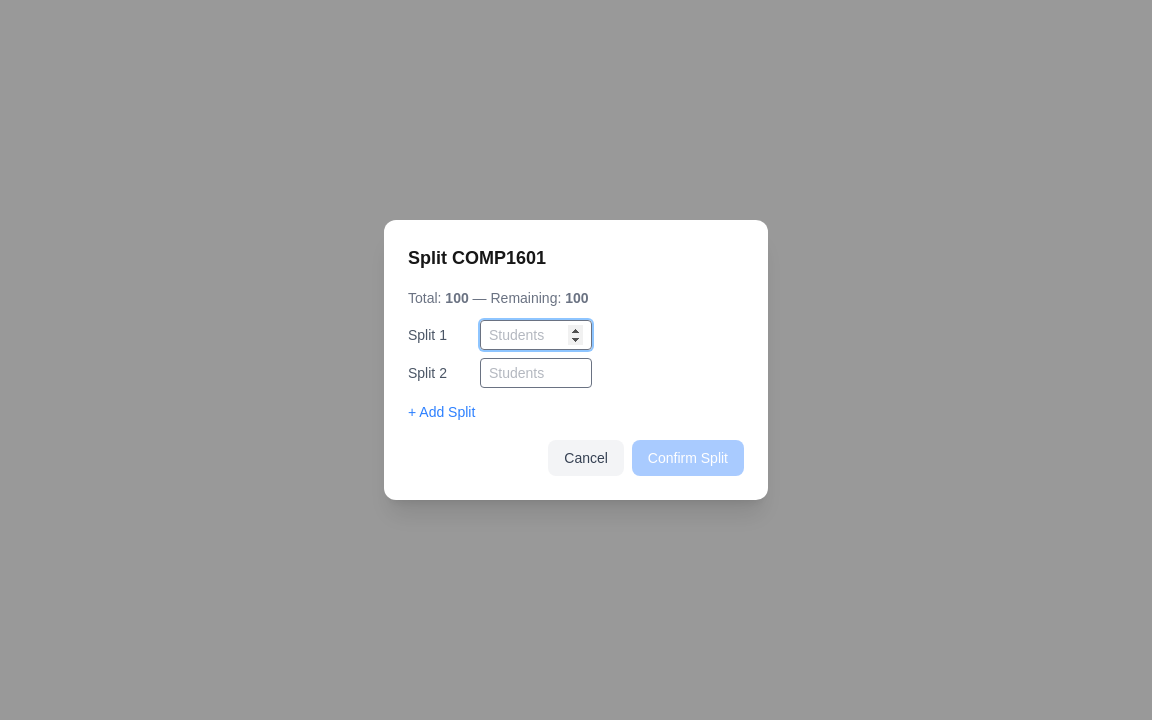
SplitExamDialog › should show negative remaining when over-allocated
Type "80" into the 1st number field with placeholder "Students". click: (536, 335)
box: [480,320,592,350]
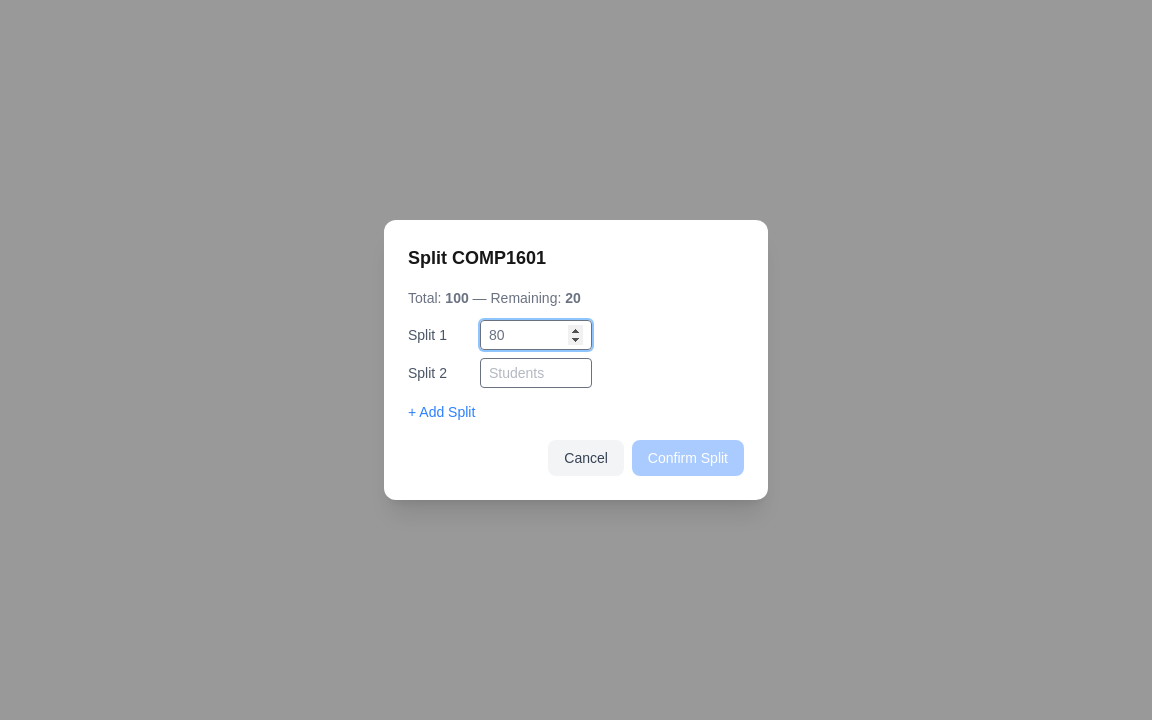
Type "40" into the number field with placeholder "Students". click: (536, 373)
box: [480,358,592,388]
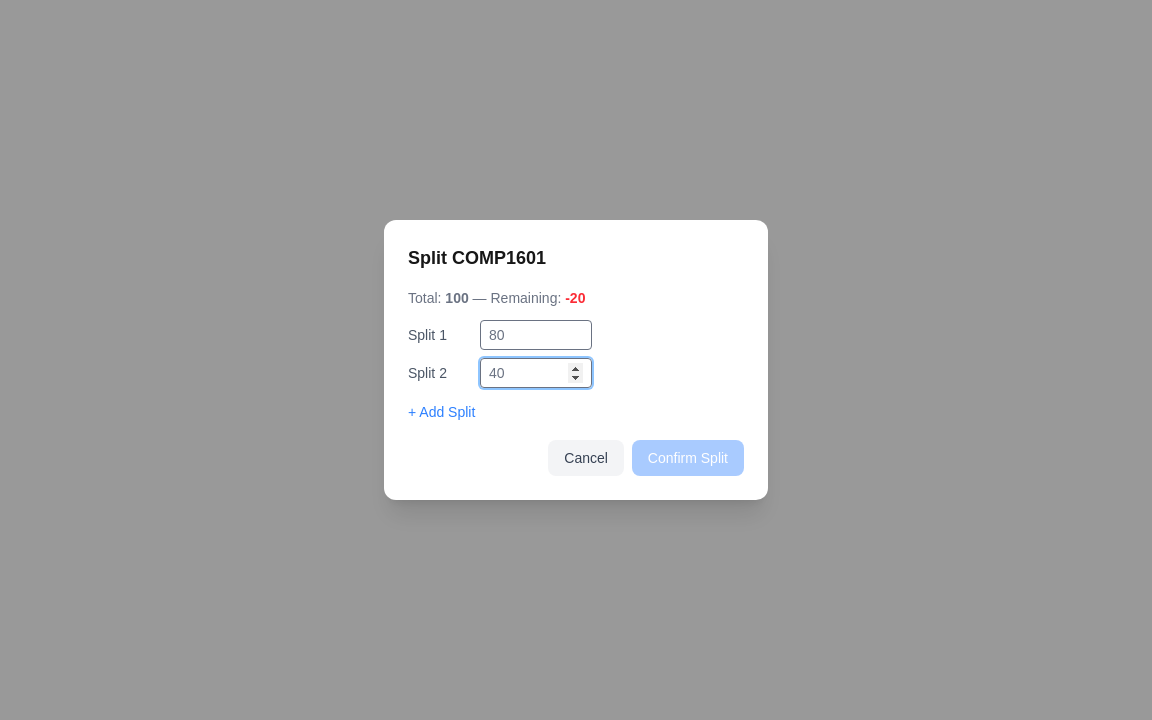
Expected: the text "-20" is shown, [565,290,585,306]
